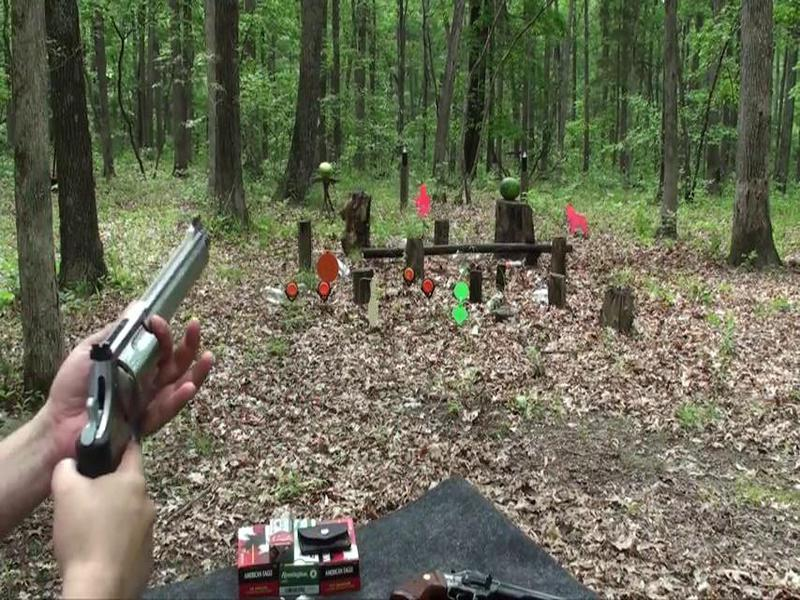Revolver: (47, 215, 223, 482)
